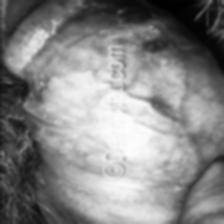Toxin: (110, 1, 144, 28), (142, 30, 172, 57)
